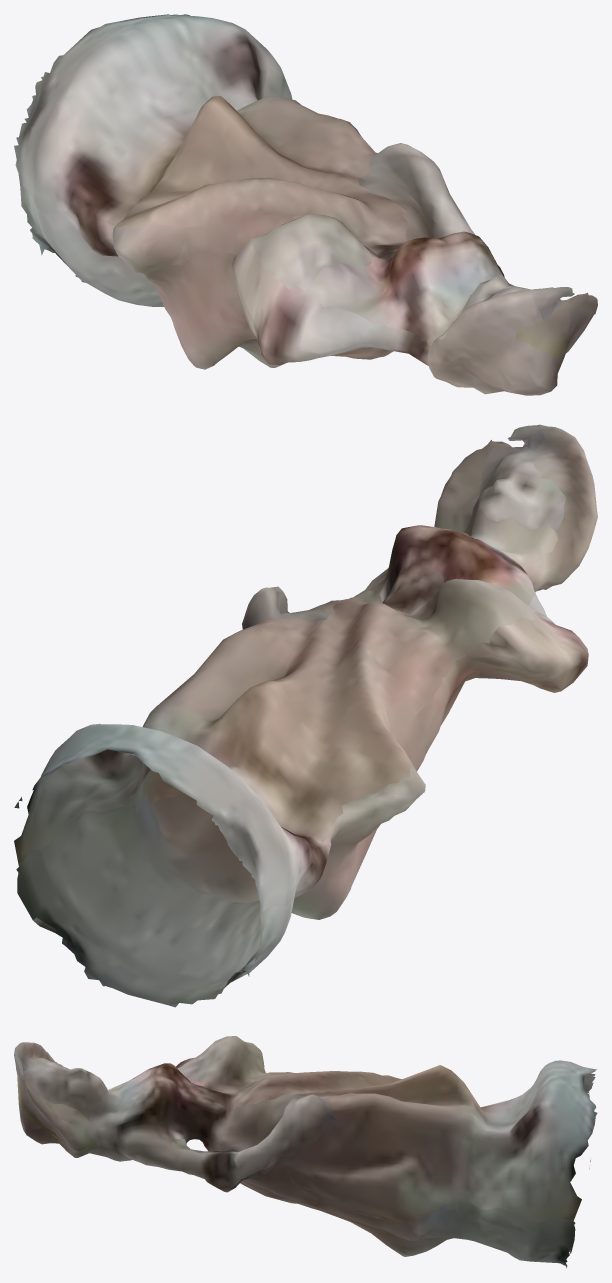
Rendered from doll.glb.
3 renders of one model, top to bottom at view 1: azimuth 30°, elevation 25°; view 2: azimuth 150°, elevation 25°; view 3: azimuth 270°, elevation 25°, orthographic. The views are drawn at different scales.
Parts seen in each view (by area): view 1: Object_2; view 2: Object_2; view 3: Object_2.
Boxes of the visible parts, x1=… form: Object_2: x1=14, y1=14, x2=597, y2=395; Object_2: x1=14, y1=424, x2=597, y2=1007; Object_2: x1=14, y1=1036, x2=597, y2=1268.
Size of the model in its own units: 0.2146 by 0.2017 by 0.5299.
Materials: 1 (1 with a texture image).
